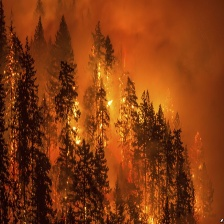fire: (70, 100, 86, 122), (95, 62, 105, 93), (119, 96, 137, 113), (69, 126, 84, 146), (106, 97, 115, 110)
smoke: (81, 2, 224, 128)
